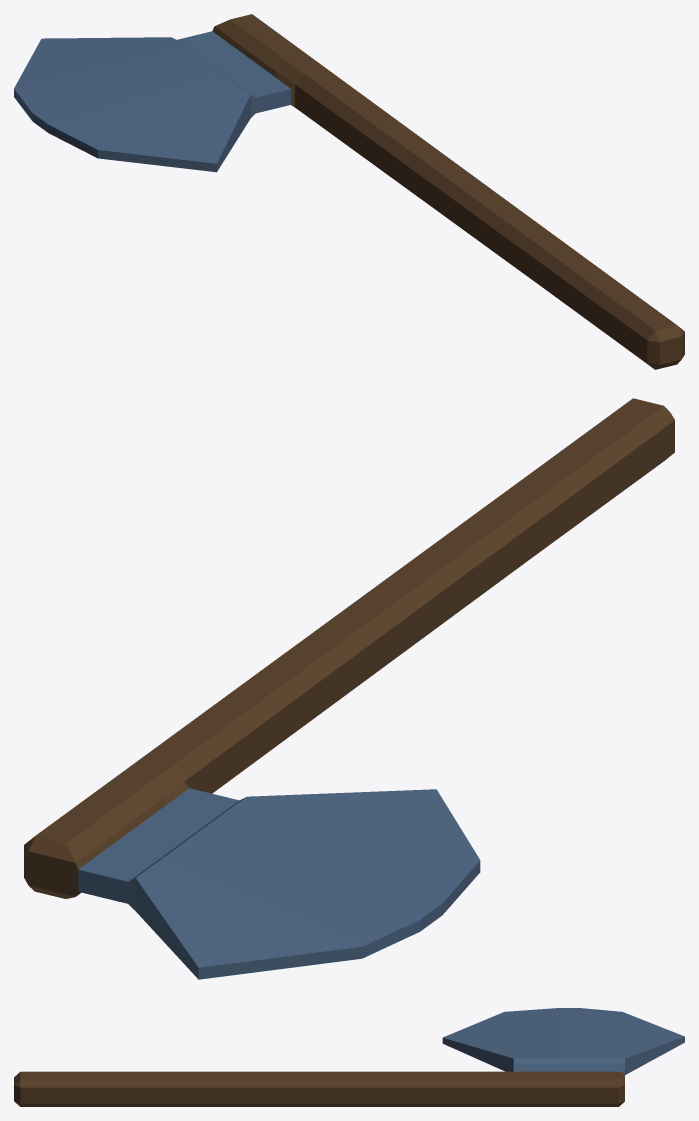
The model's file is ClockworkPixie_Test_Axe.fbx.
The picture shows the model from 3 angles, top to bottom: view 1: azimuth 30°, elevation 25°; view 2: azimuth 150°, elevation 25°; view 3: azimuth 270°, elevation 25°; orthographic projection. The views are drawn at different scales.
Parts seen in each view (by area): view 1: Axe; view 2: Axe; view 3: Axe.
Boxes of the visible parts, x1=… form: Axe: x1=14, y1=14, x2=684, y2=369; Axe: x1=24, y1=398, x2=674, y2=979; Axe: x1=14, y1=1008, x2=684, y2=1106.
Size of the model in its own units: 1098 by 338 by 50.
